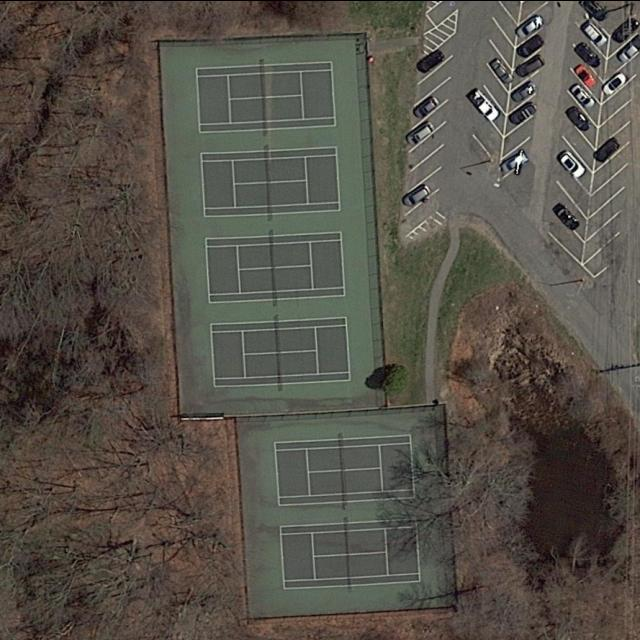small-vehicle: (469, 87, 502, 122), (572, 38, 605, 70), (556, 147, 588, 179), (400, 180, 433, 210), (513, 51, 548, 79), (562, 102, 593, 133), (405, 117, 436, 147), (416, 46, 448, 75), (507, 97, 540, 125), (568, 80, 598, 110), (580, 17, 610, 47), (487, 54, 515, 85), (516, 31, 547, 59), (592, 136, 623, 164), (600, 69, 631, 97), (499, 148, 531, 175), (553, 201, 581, 231), (510, 77, 541, 103), (515, 13, 546, 39), (413, 93, 442, 120), (613, 15, 640, 43), (574, 61, 597, 88), (619, 43, 639, 62)
